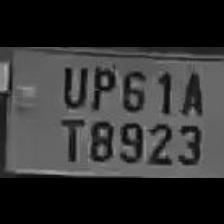1: (150, 64, 174, 114)
2: (144, 119, 174, 164)
3: (174, 119, 202, 164)
6: (117, 64, 147, 112)
8: (84, 114, 114, 162)
9: (116, 116, 142, 162)
A: (174, 66, 204, 116)
P: (88, 61, 116, 111)
T: (52, 113, 86, 161)
U: (57, 59, 87, 107)
